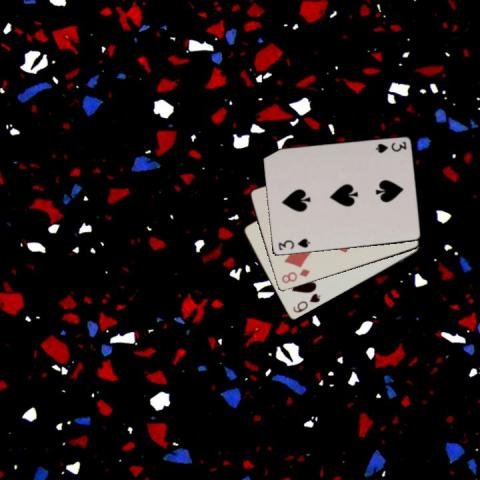3s: (373, 138, 407, 154), (275, 236, 311, 251)
6s: (290, 290, 322, 314)
8d: (279, 266, 311, 285)
